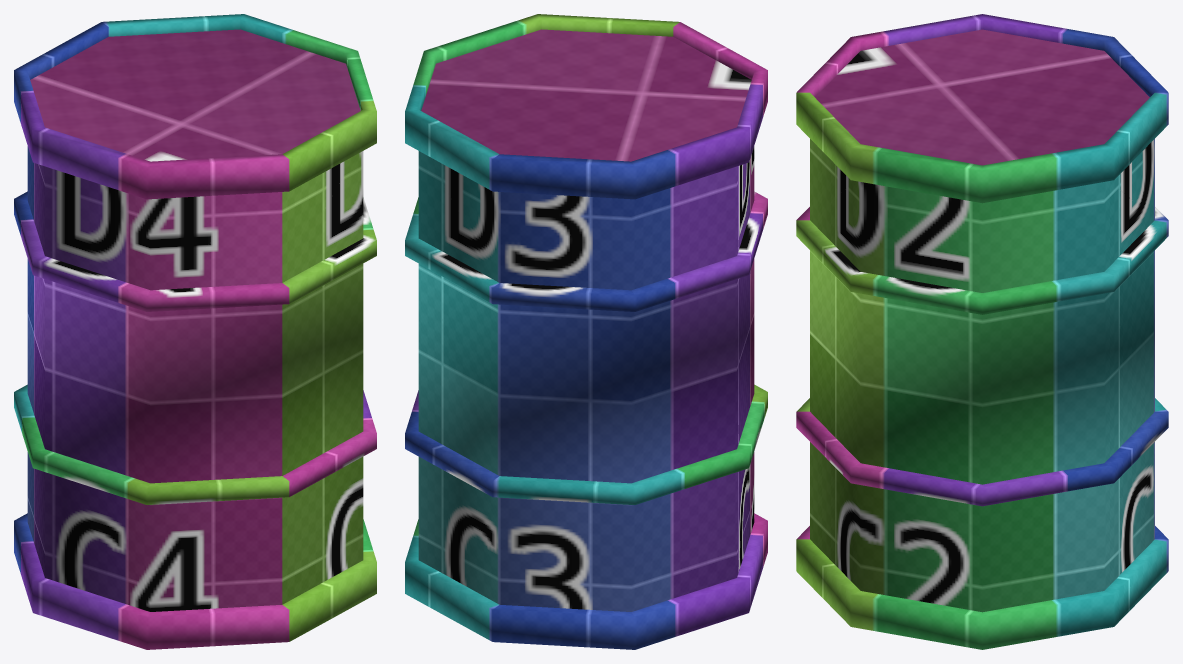
Rendered from Barril.fbx.
3 renders of one model, left to right at view 1: azimuth 30°, elevation 25°; view 2: azimuth 150°, elevation 25°; view 3: azimuth 270°, elevation 25°, orthographic.
Parts seen in each view (by area): view 1: Barril; view 2: Barril; view 3: Barril.
Boxes of the visible parts, x1,y1,x2,y2 form: Barril: (14,14,376,649); Barril: (405,14,767,649); Barril: (796,14,1168,649).
Size of the model in its own units: 140 by 199 by 140.
